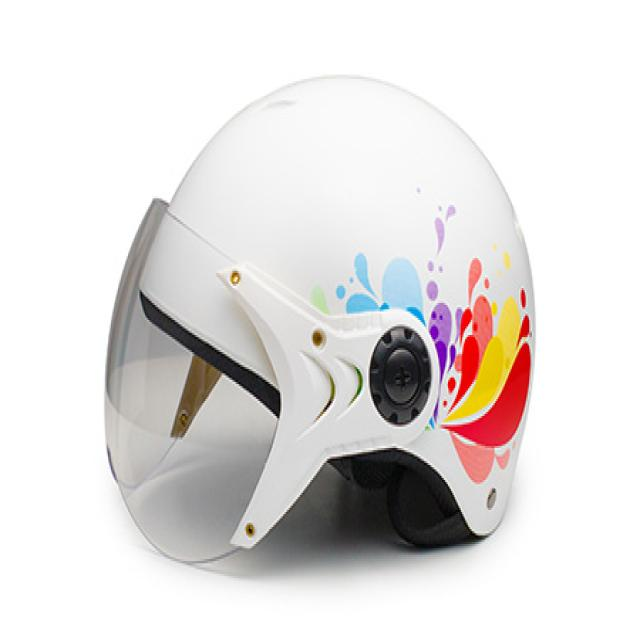Helmet: (99, 61, 532, 563)
